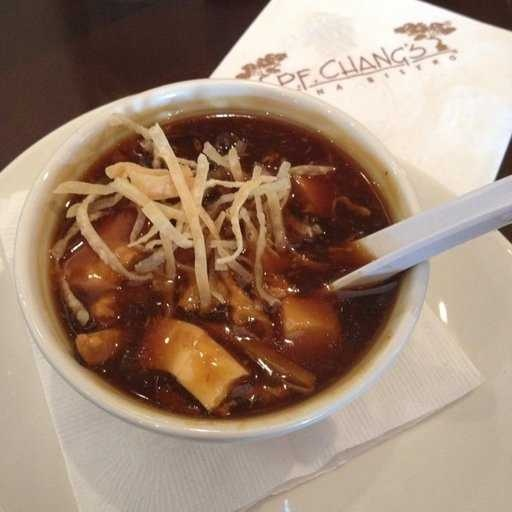soup: (44, 121, 376, 404)
